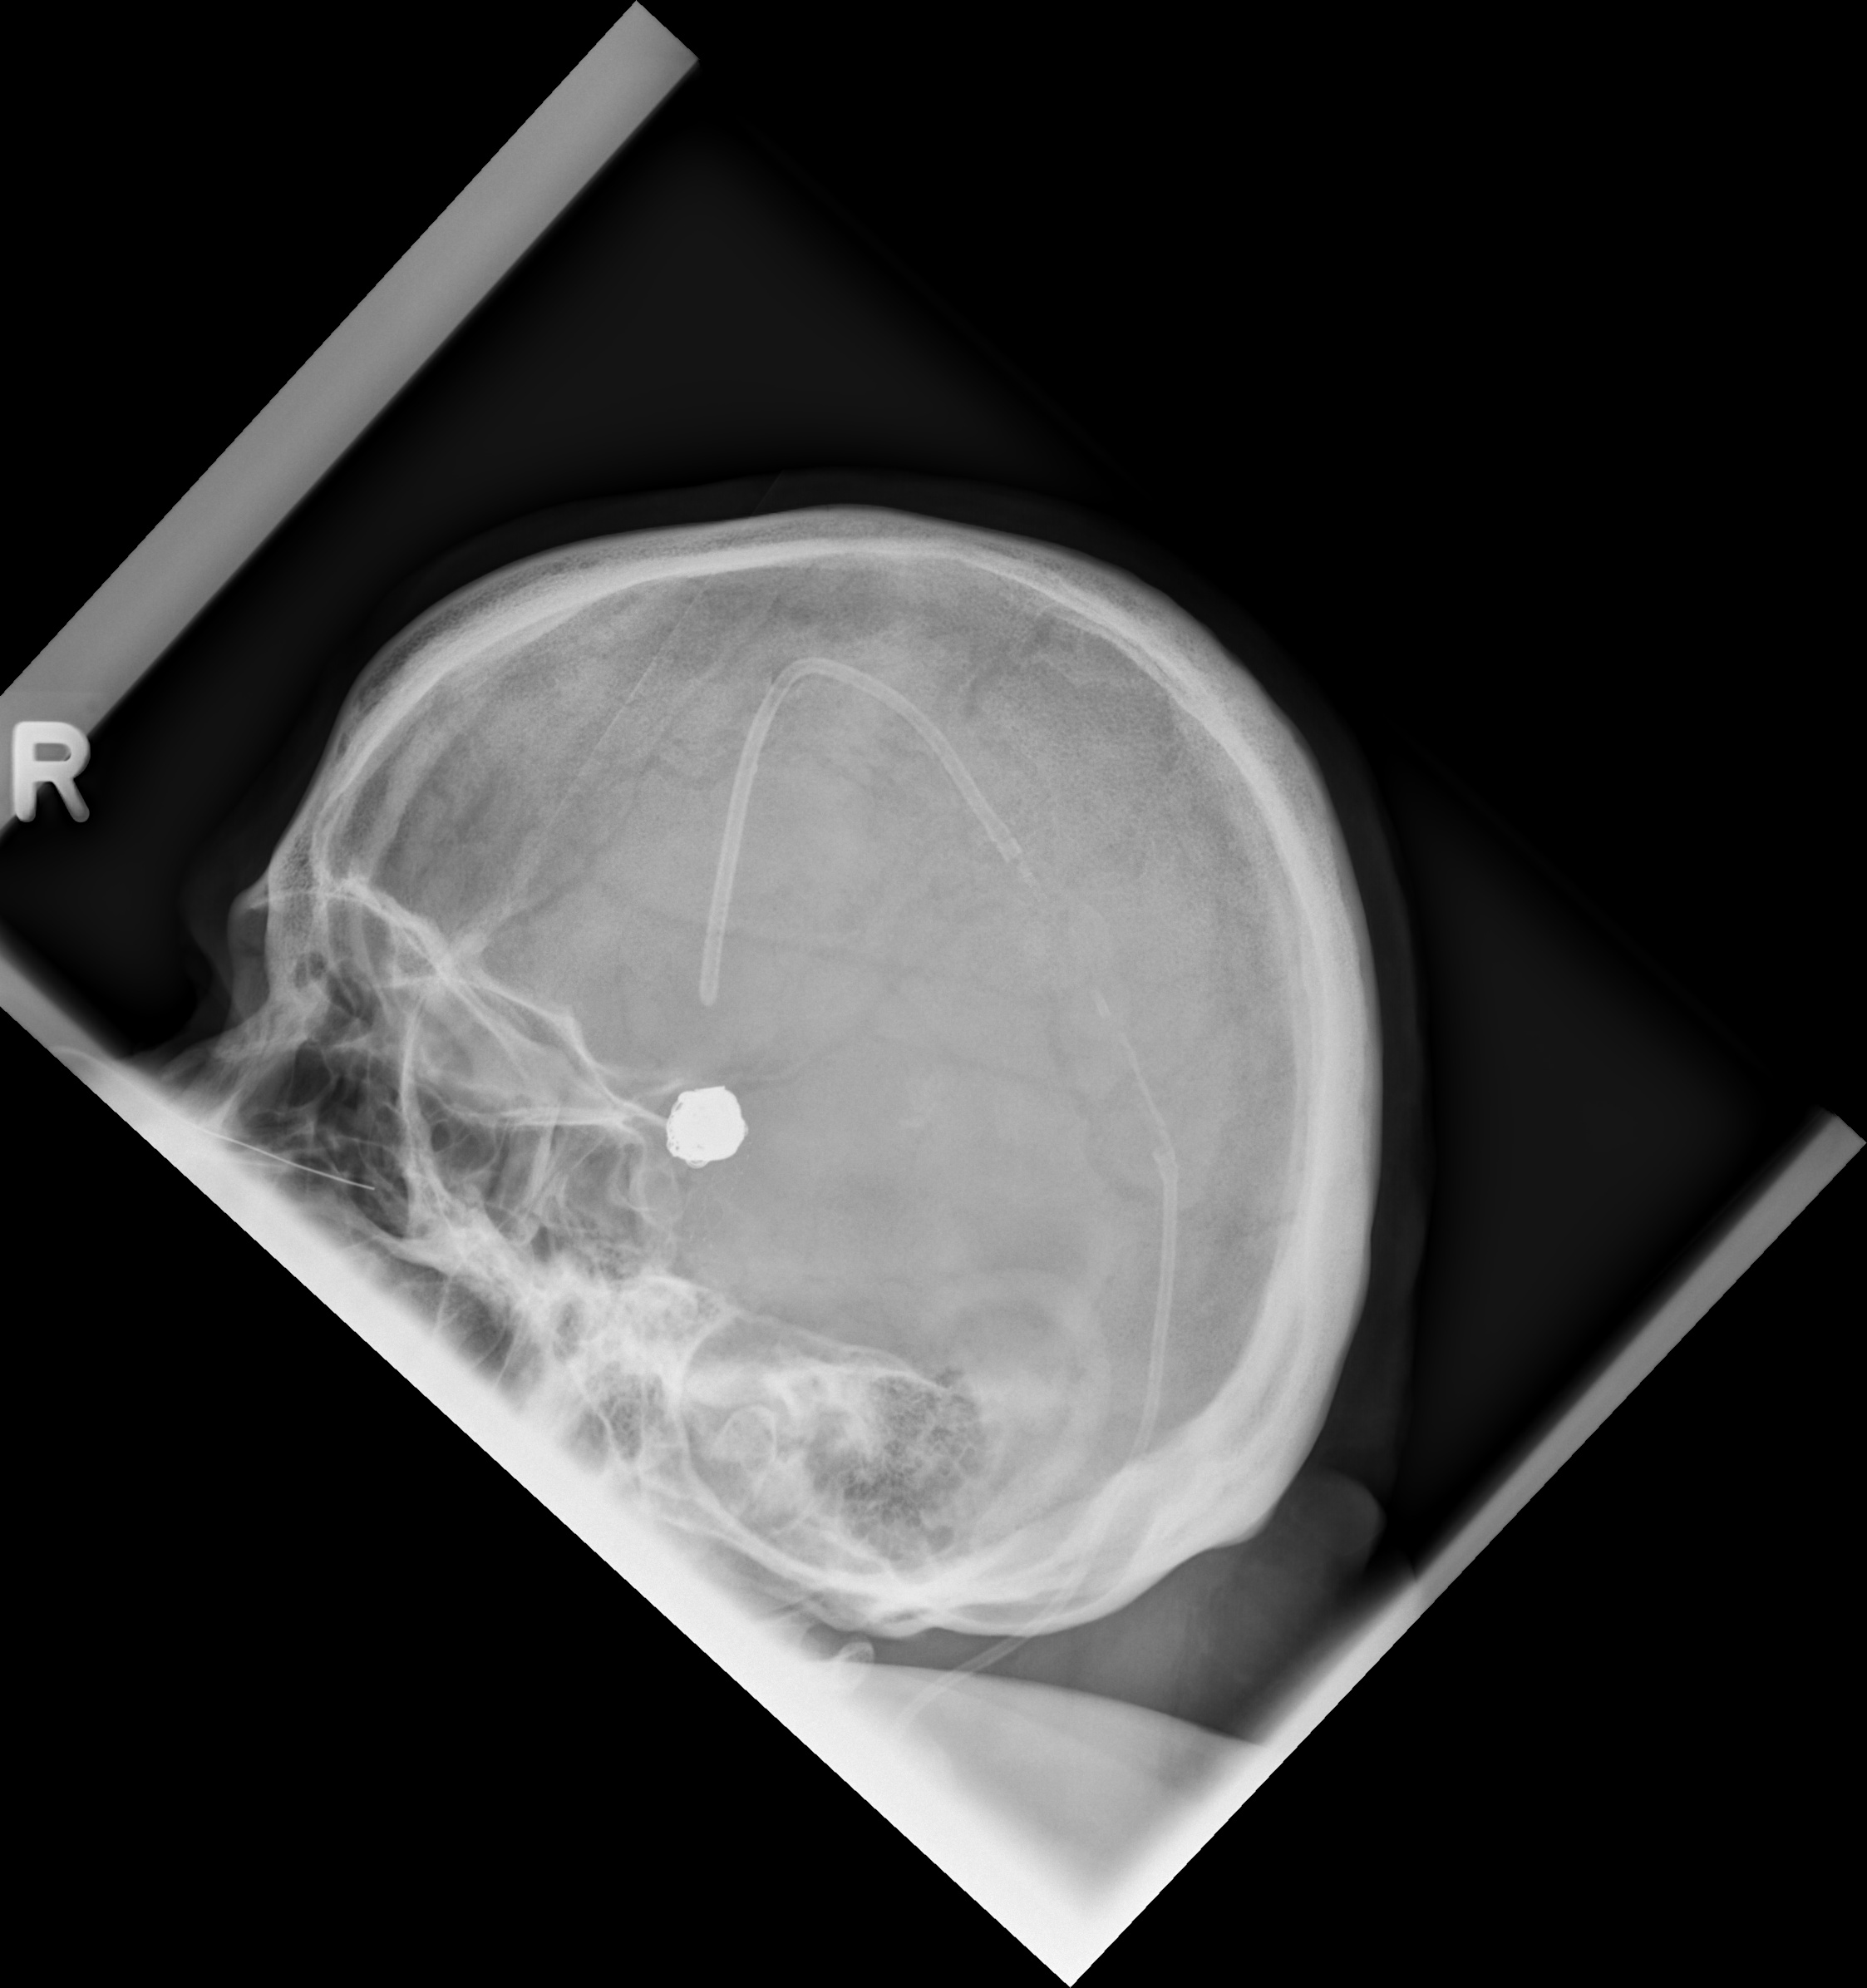Codman Uni-Shunt: (986, 844, 1153, 1049)
